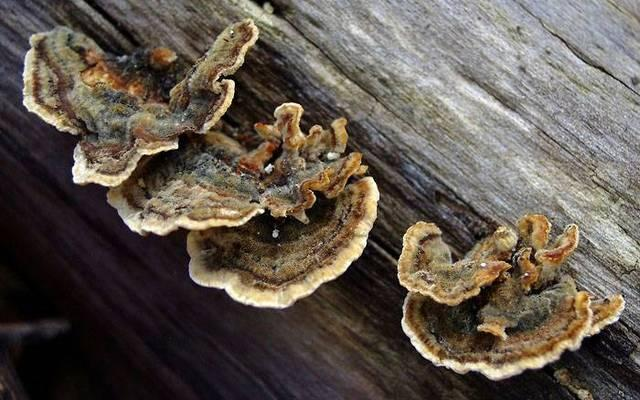poisonous_mushroom: (20, 16, 381, 310), (20, 16, 260, 189), (396, 211, 625, 381)
